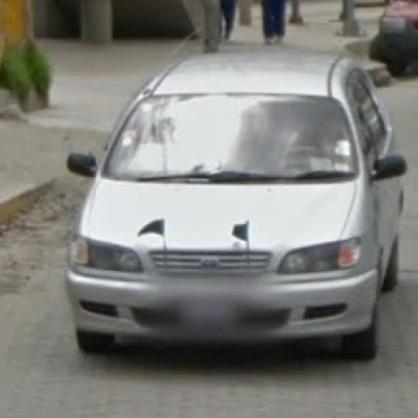car: (64, 46, 406, 370)
